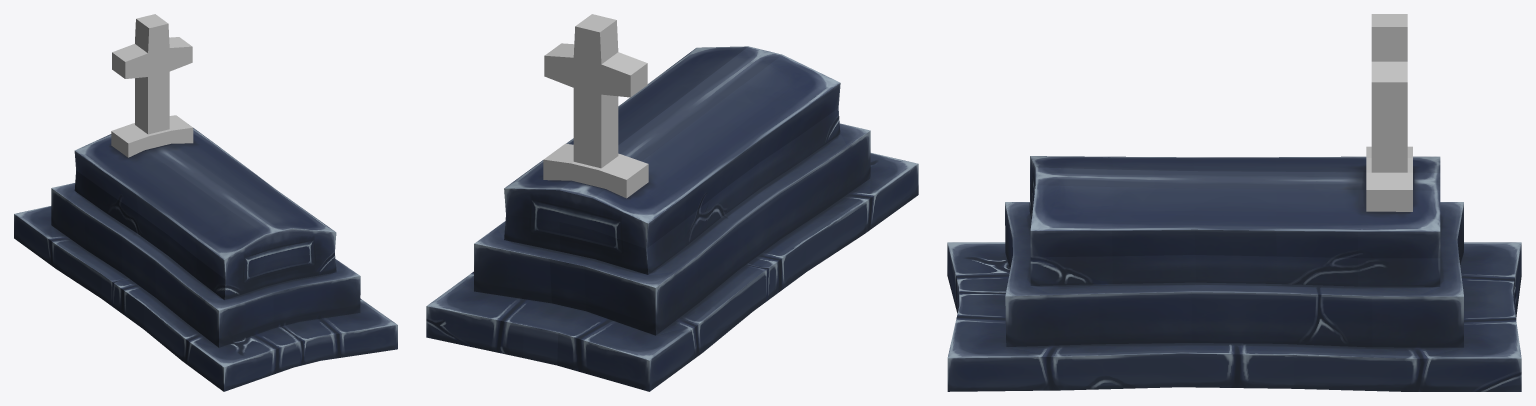
Rendered from tomb2_3.fbx.
3 views of the same model, side by side, from view 1: azimuth 30°, elevation 25°; view 2: azimuth 150°, elevation 25°; view 3: azimuth 270°, elevation 25° (orthographic). The views are drawn at different scales.
Parts seen in each view (by area): view 1: Cube.022, Cube.024; view 2: Cube.022, Cube.024; view 3: Cube.022, Cube.024.
Part boxes in pixels (bbox=[...]): Cube.022: bbox=[14, 128, 397, 391]; Cube.024: bbox=[111, 14, 193, 157]; Cube.022: bbox=[426, 46, 918, 391]; Cube.024: bbox=[543, 14, 648, 198]; Cube.022: bbox=[947, 156, 1521, 391]; Cube.024: bbox=[1366, 14, 1412, 211].
Size of the model in its own units: 328 by 415 by 684.
